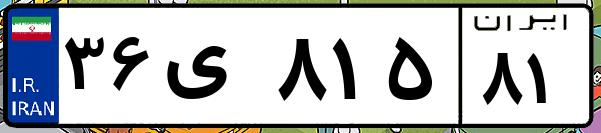1: (330, 28, 385, 110), (525, 38, 570, 115)
3: (57, 26, 110, 100)
5: (385, 28, 445, 110)
6: (110, 28, 158, 98)
8: (270, 28, 330, 110), (475, 38, 525, 113)
ی: (158, 20, 270, 120)
